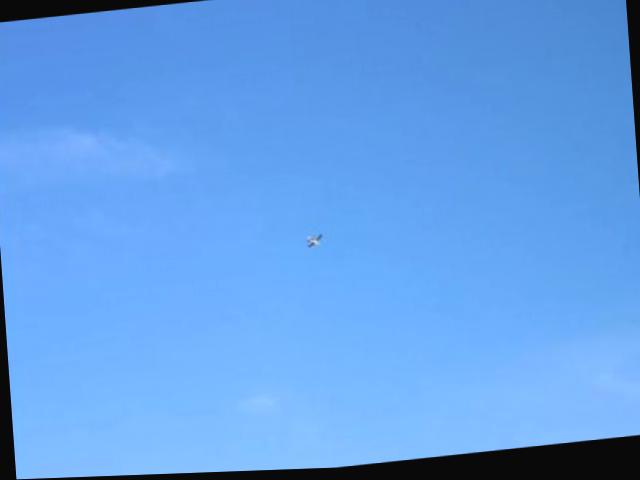uav: (304, 234, 325, 253)
